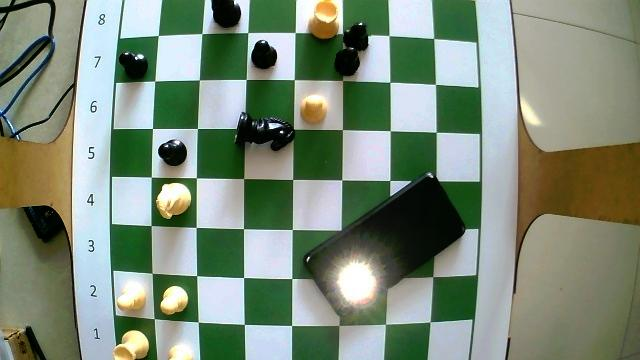piece: (156, 183, 190, 218), (309, 1, 338, 38), (309, 0, 337, 37), (115, 331, 148, 359), (211, 0, 240, 27), (212, 0, 238, 27), (251, 40, 276, 68), (117, 283, 145, 308), (159, 140, 186, 165), (344, 27, 371, 52), (301, 96, 327, 121), (163, 287, 187, 314), (119, 54, 147, 77), (337, 50, 363, 74), (251, 41, 275, 66), (336, 47, 358, 70), (346, 24, 365, 48)
